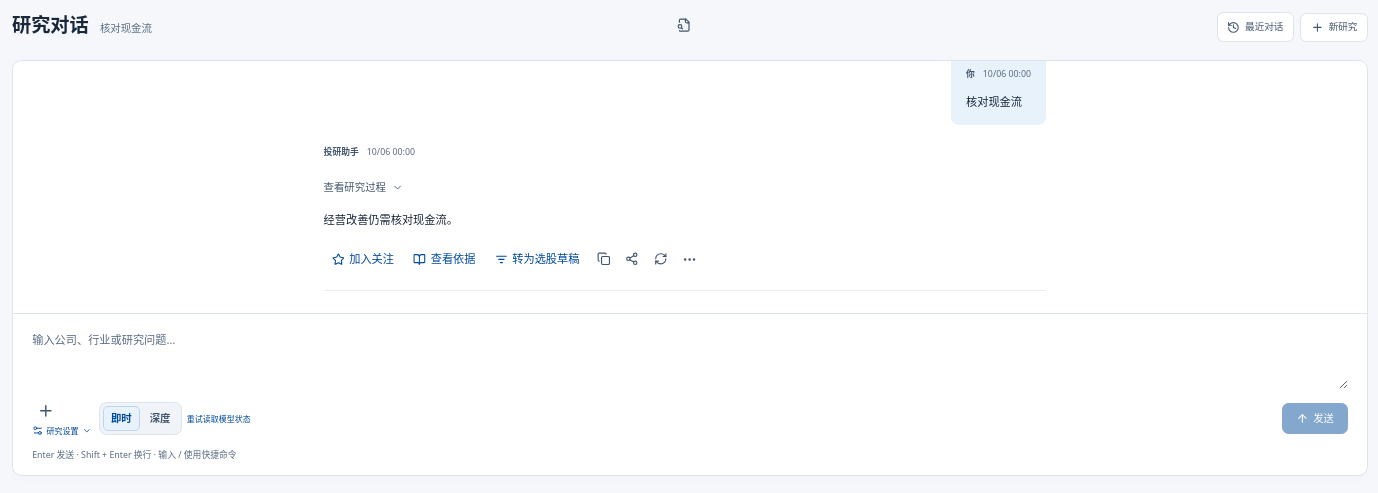
Test case: regenerates the selected answer without adding a new visible question
(page scrolled)
Click the button named "重新生成答案" at (661, 259), box [648,246,674,272]
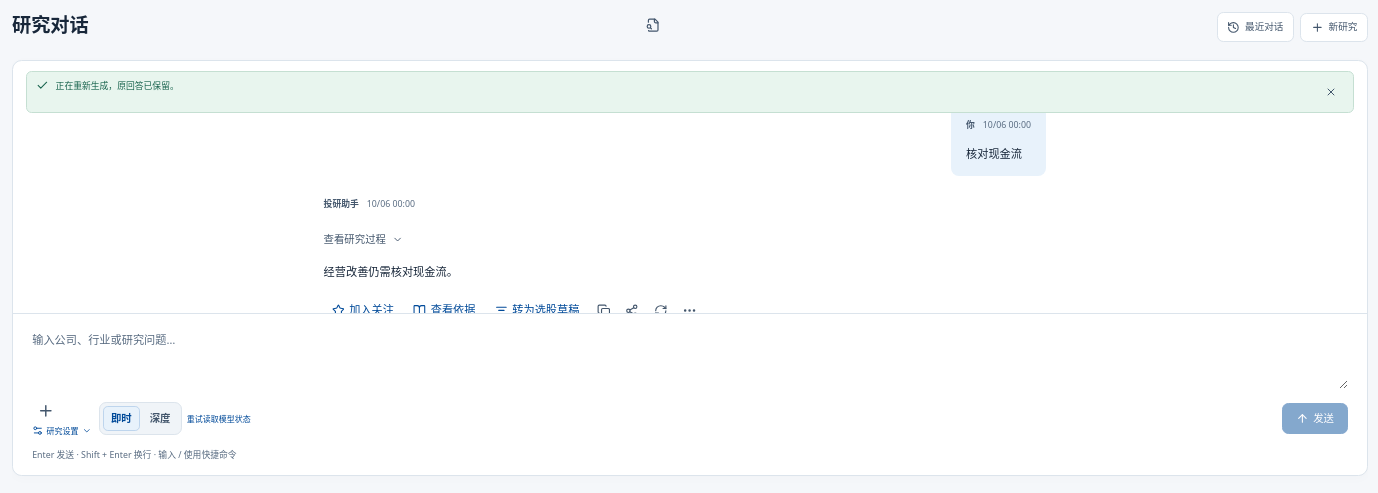
Result: the text "正在重新生成，原回答已保留。" is shown at [56,80,179,92]
